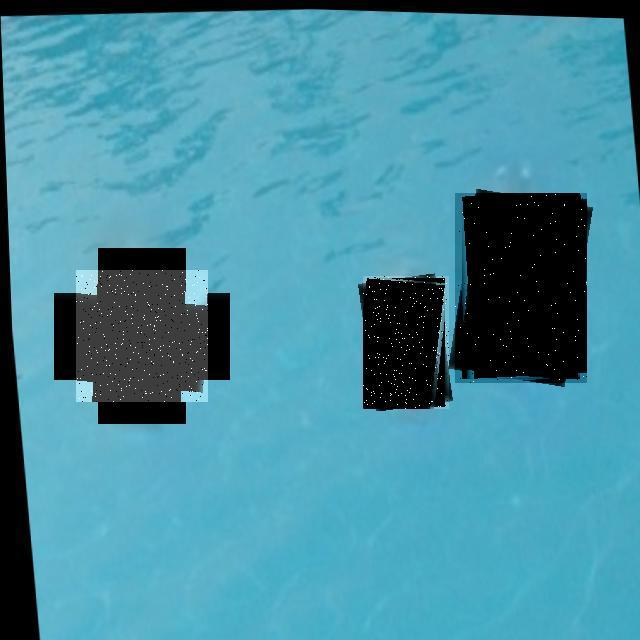swimming: (455, 193, 587, 383), (76, 270, 208, 402), (363, 276, 449, 409)
